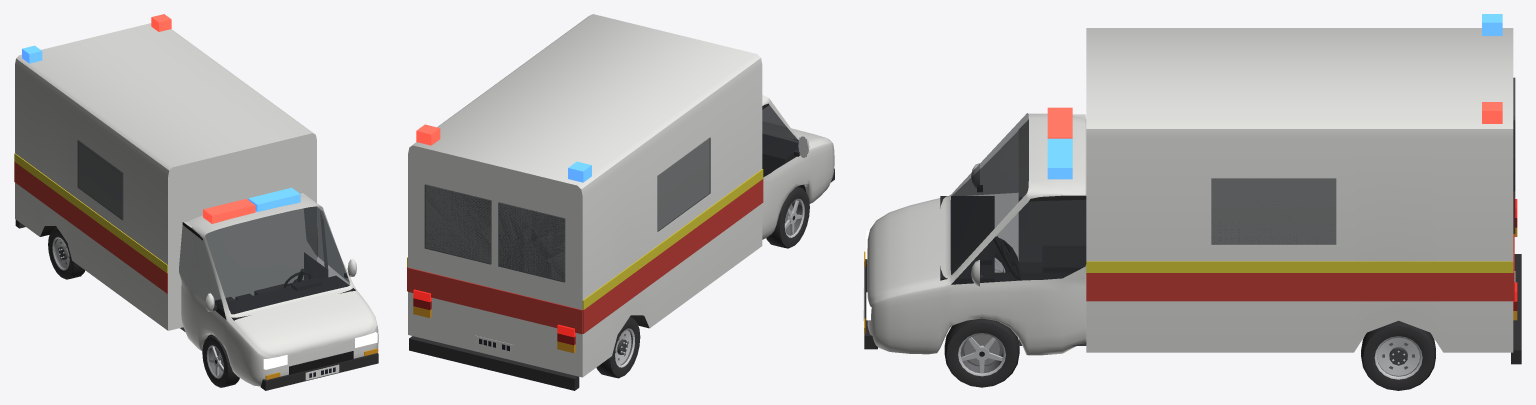
The model's file is ambulance.glb.
The picture shows the model from 3 angles, left to right: view 1: azimuth 30°, elevation 25°; view 2: azimuth 150°, elevation 25°; view 3: azimuth 270°, elevation 25°; orthographic projection. The views are drawn at different scales.
Visible parts, largest first — view 1: ambulance_body, Wheel_FR, Wheel_RR, Siren_0, Siren_1; view 2: ambulance_body, Wheel_FR, Wheel_RR, Siren_3, Siren_2; view 3: ambulance_body, Wheel_FL, Wheel_RL, Siren_1, Siren_0.
Boxes of the visible parts, <box> form: ambulance_body: <box>14,23,378,390</box>; Wheel_FR: <box>202,335,239,387</box>; Wheel_RR: <box>48,227,85,279</box>; Siren_0: <box>203,199,255,223</box>; Siren_1: <box>248,187,300,211</box>; ambulance_body: <box>407,14,834,390</box>; Wheel_FR: <box>766,186,809,248</box>; Wheel_RR: <box>596,317,640,378</box>; Siren_3: <box>416,124,440,145</box>; Siren_2: <box>568,161,591,182</box>; ambulance_body: <box>863,28,1521,364</box>; Wheel_FL: <box>944,318,1019,387</box>; Wheel_RL: <box>1361,320,1435,390</box>; Siren_1: <box>1047,138,1072,179</box>; Siren_0: <box>1047,107,1072,138</box>.
Bounding box in the file's own units: 0.1164 × 0.1495 × 0.3159.
Materials: 8 (1 with a texture image).
